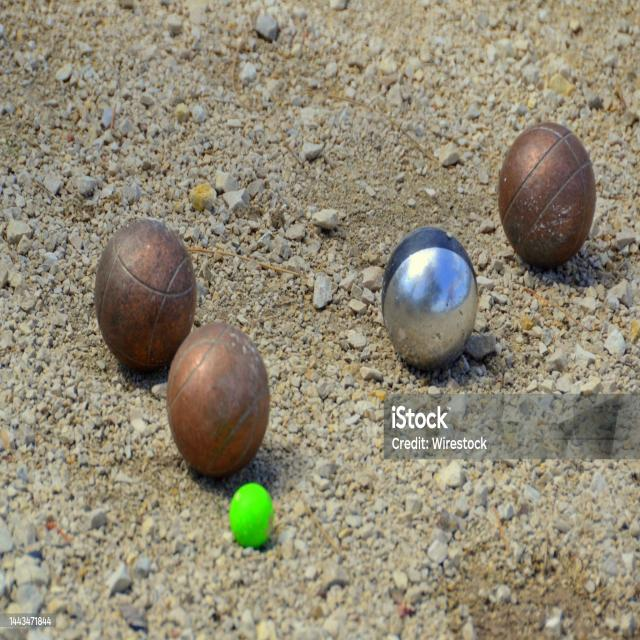hatball: (222, 476, 276, 552)
petanque: (154, 314, 278, 481), (90, 203, 206, 379), (493, 119, 604, 284), (377, 222, 488, 380)
